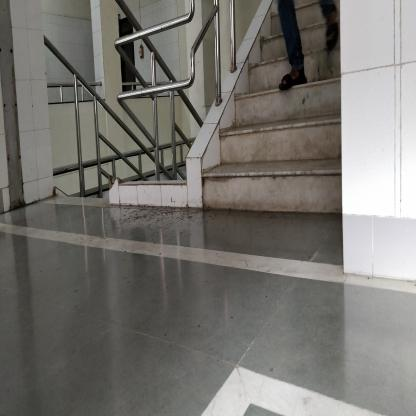stairs: (230, 101, 331, 224)
